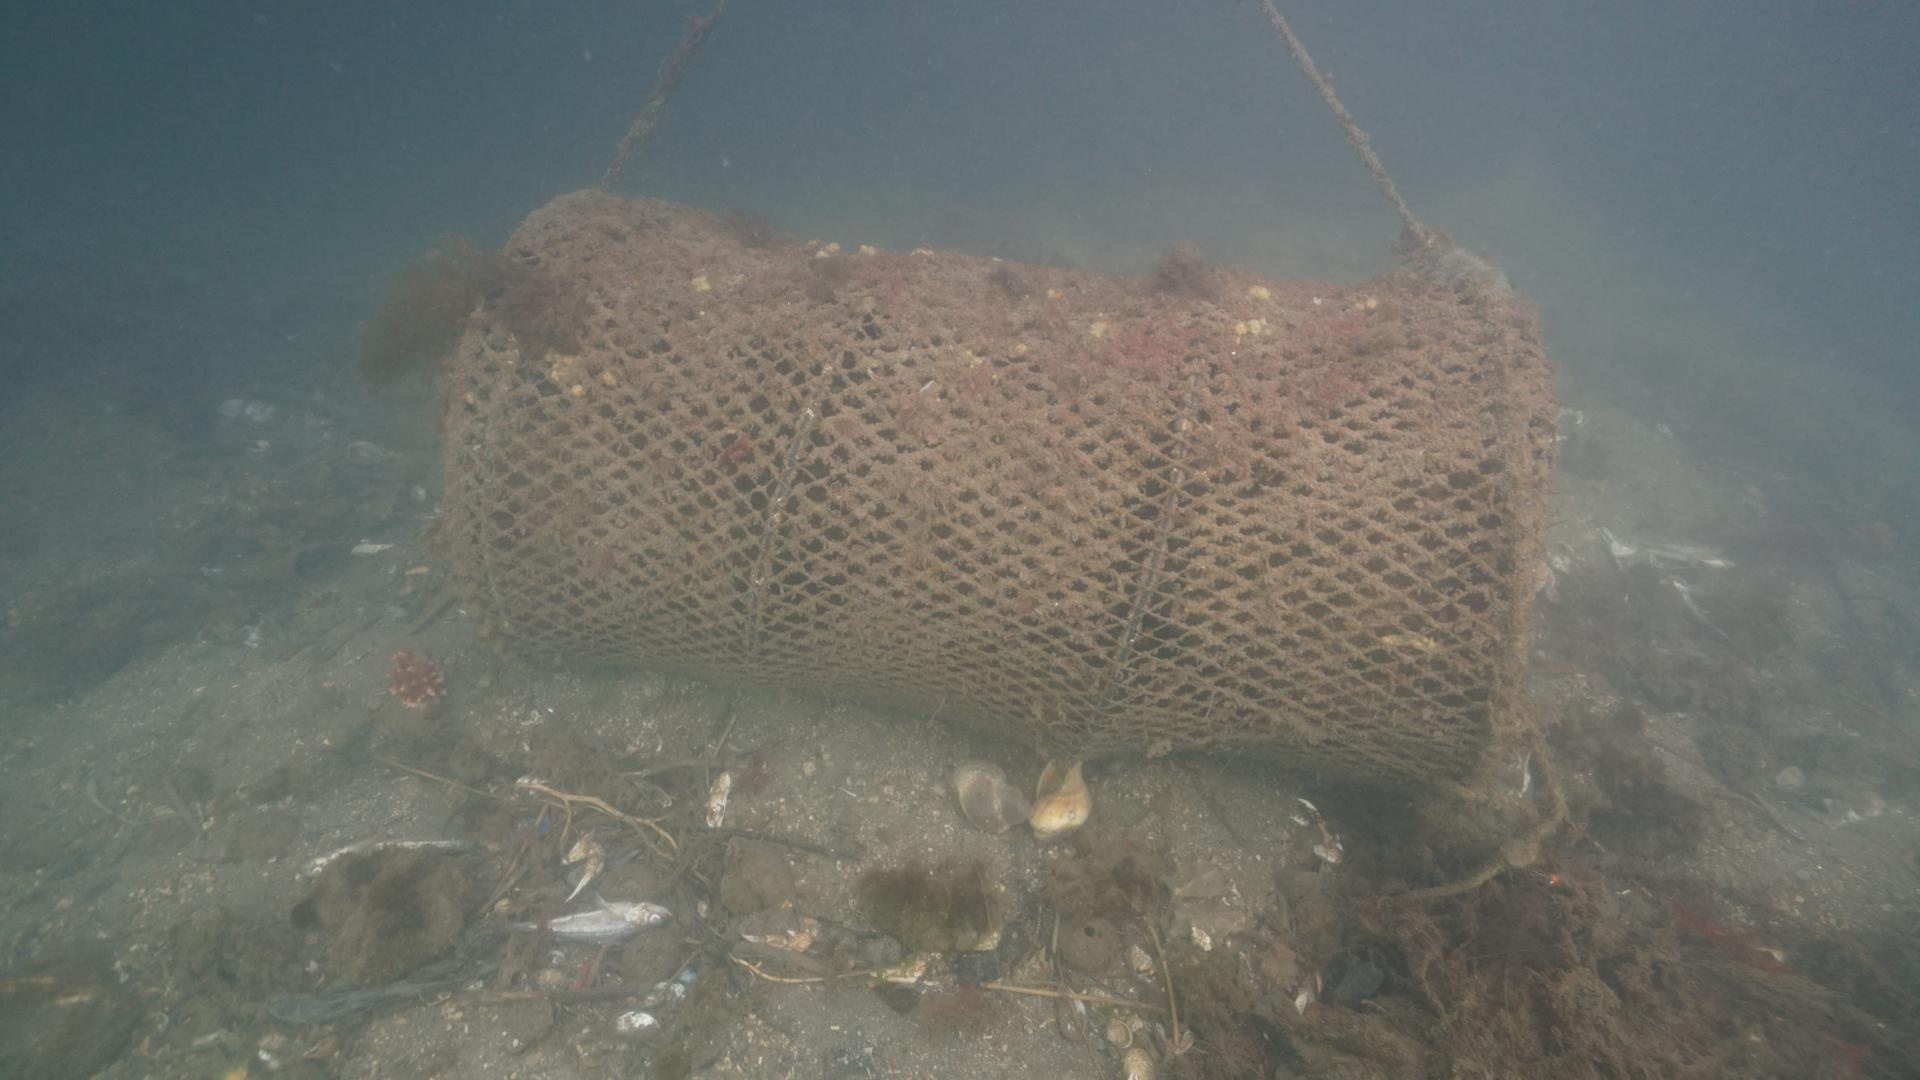rope: (1253, 0, 1429, 245), (593, 0, 733, 194)
spring fish trap: (433, 171, 1544, 798)
